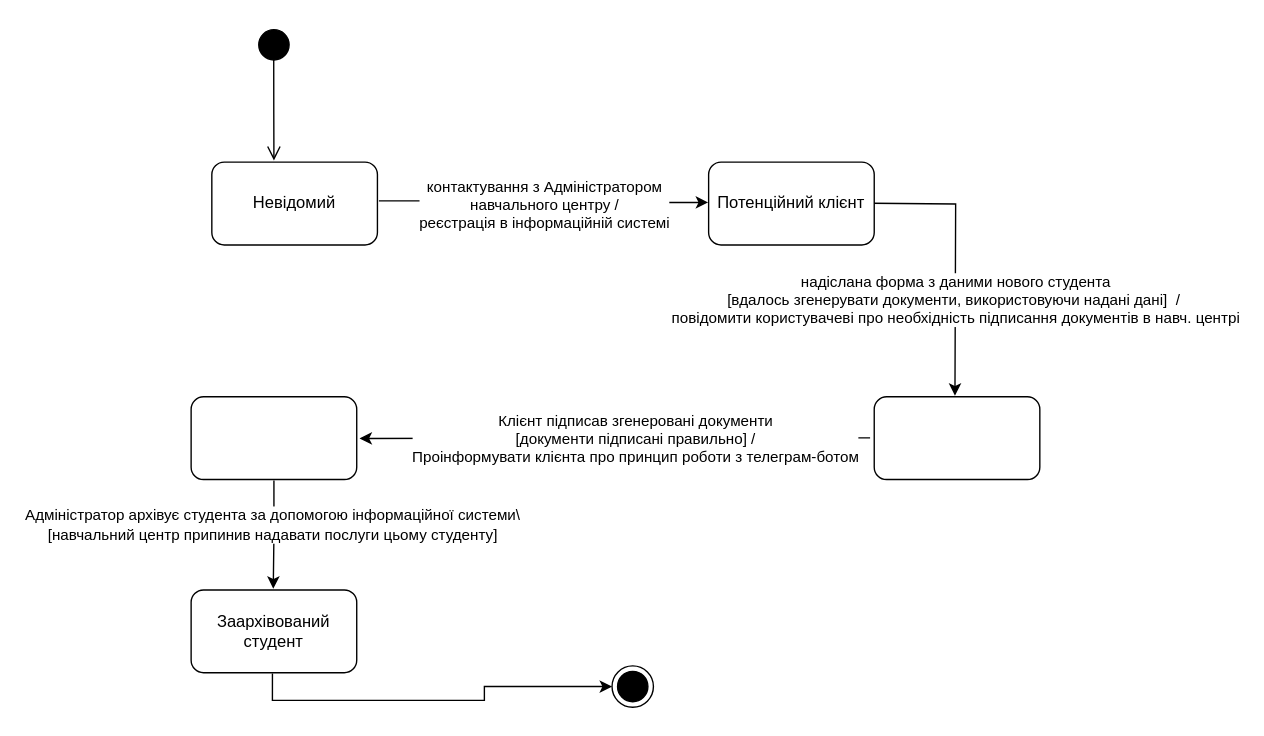
Some shapes in this 1264 by 736 pixel diagram are drawn without their labels. Each missing label, with the centre of its shape:
Активний студент: point (273, 437)
Зареєстрований студент: point (956, 437)
